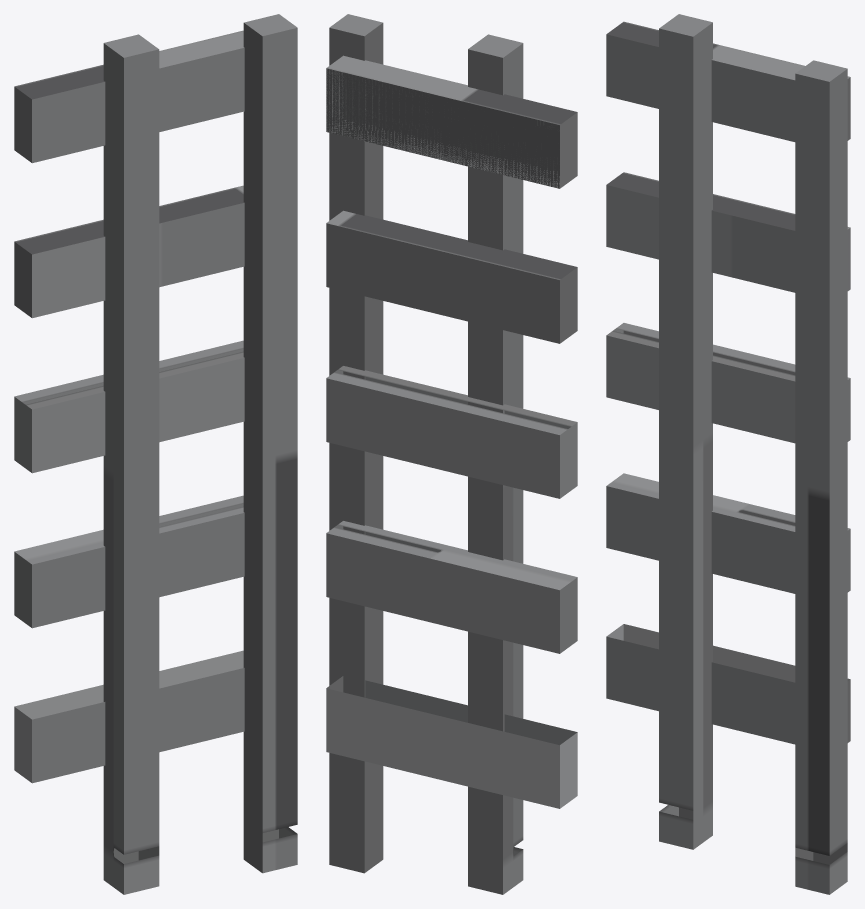
3 renders of one model, left to right at view 1: azimuth 30°, elevation 25°; view 2: azimuth 150°, elevation 25°; view 3: azimuth 330°, elevation 25°, orthographic. The views are drawn at different scales.
Size of the model in its own units: 0.2985 by 0.9789 by 0.0765.
